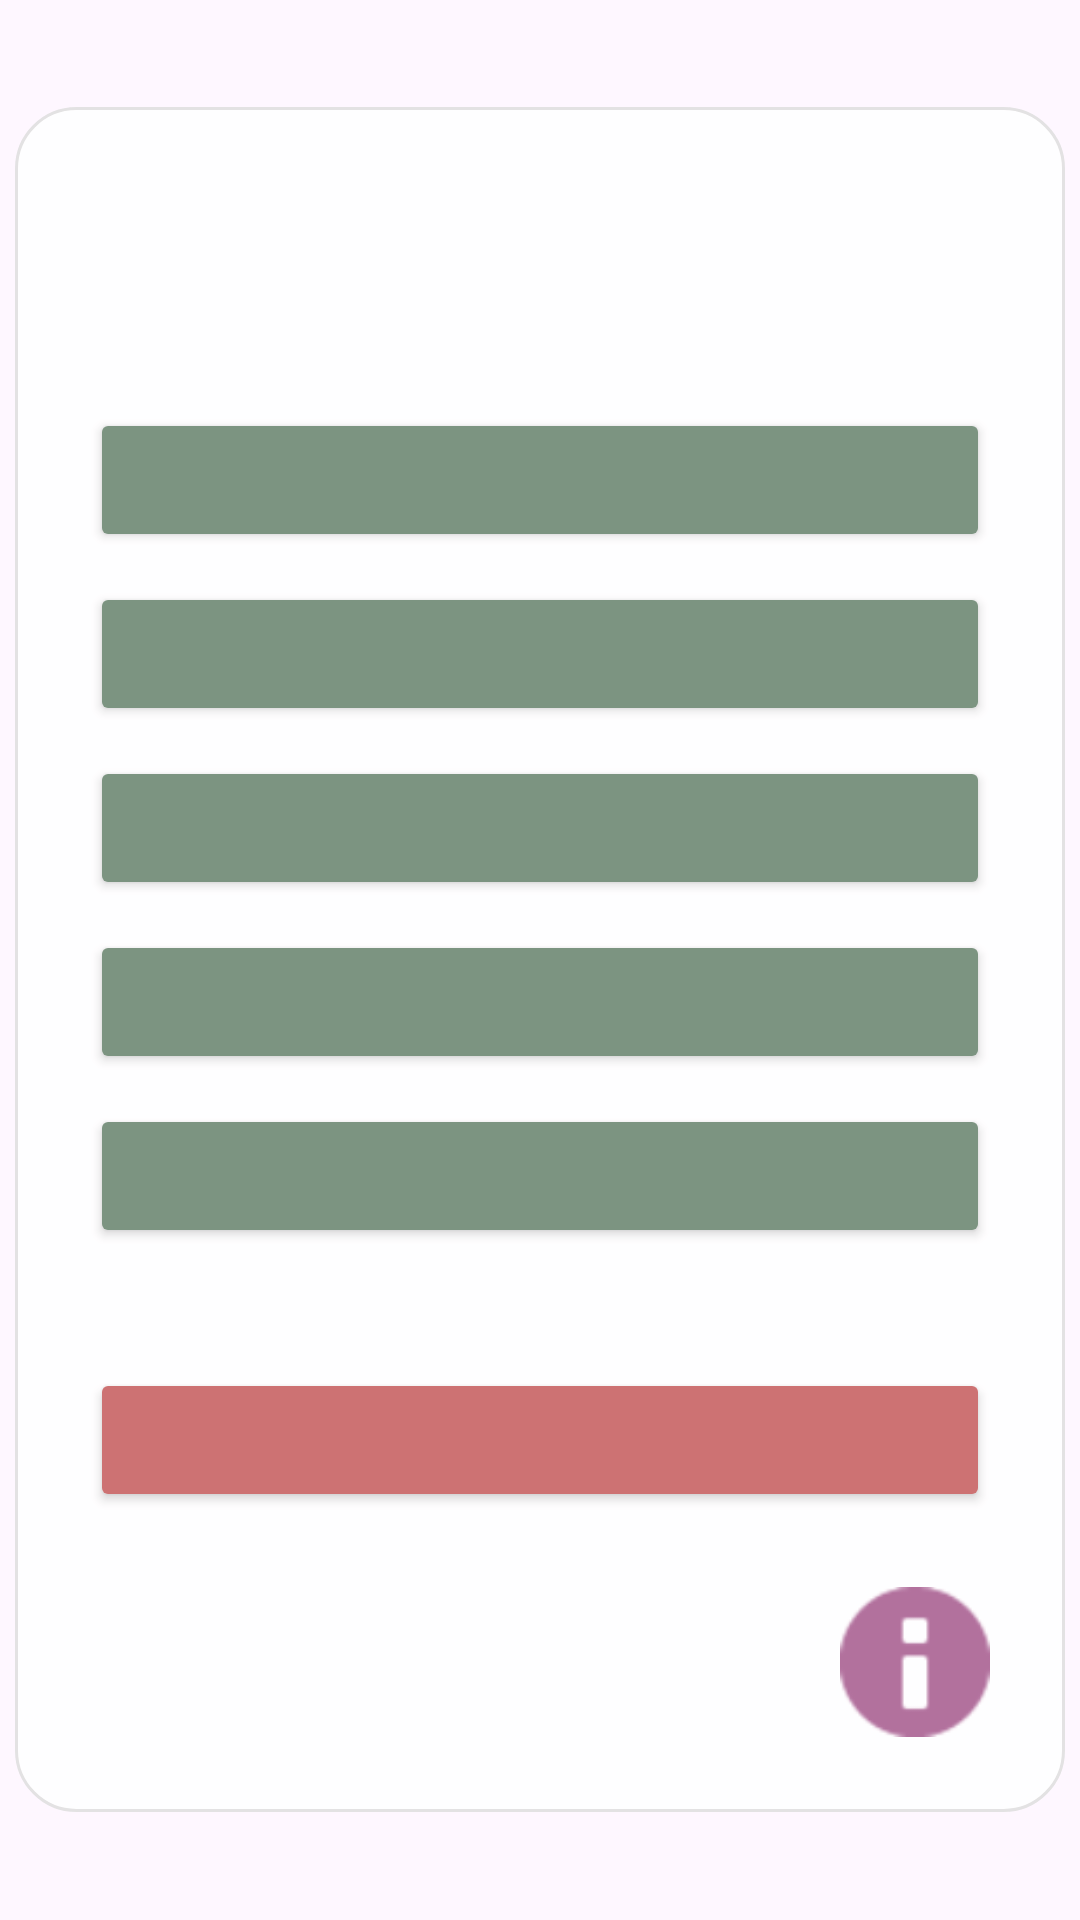

Icons on this 1080x1920 Android screen, each with the point to tap as (x=x, y=y):
info: (x=915, y=1662)
